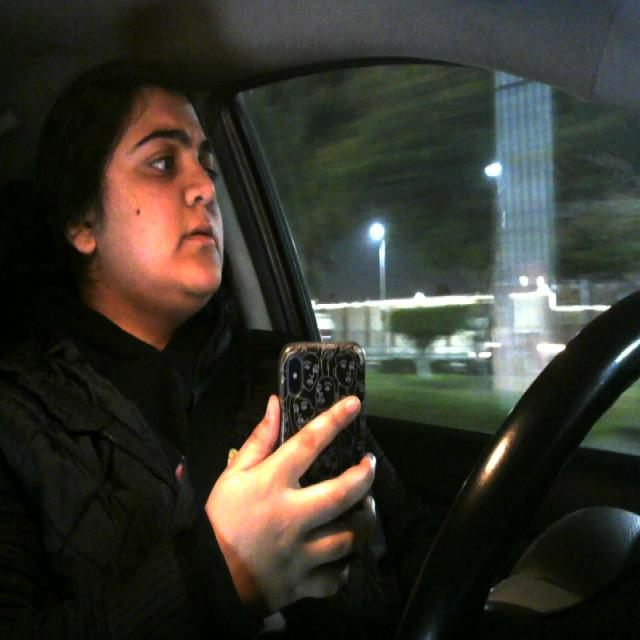mobile use: (265, 334, 377, 575)
